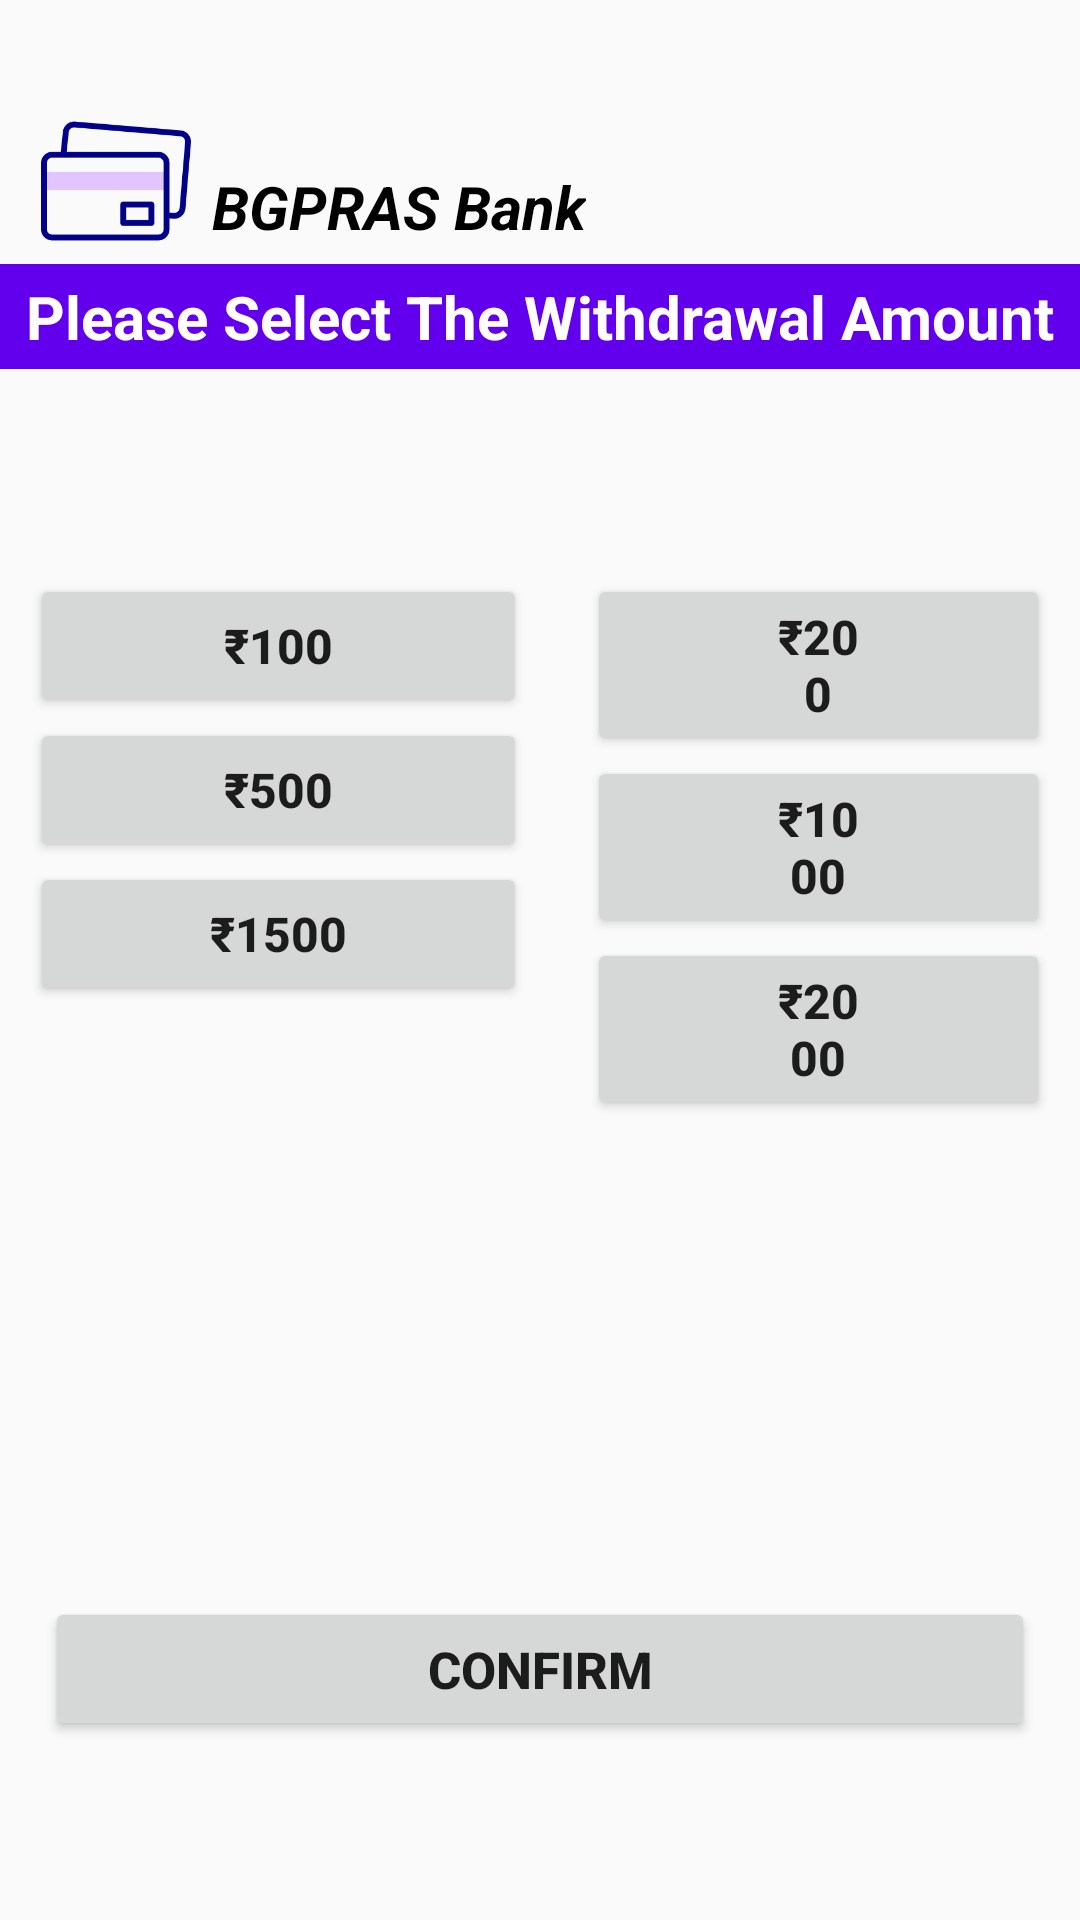

Named icons in this screenshot (1080px x 1920px) and their bounding boxes, region(x1, y1, x2, y2):
card: region(41, 121, 191, 241)
